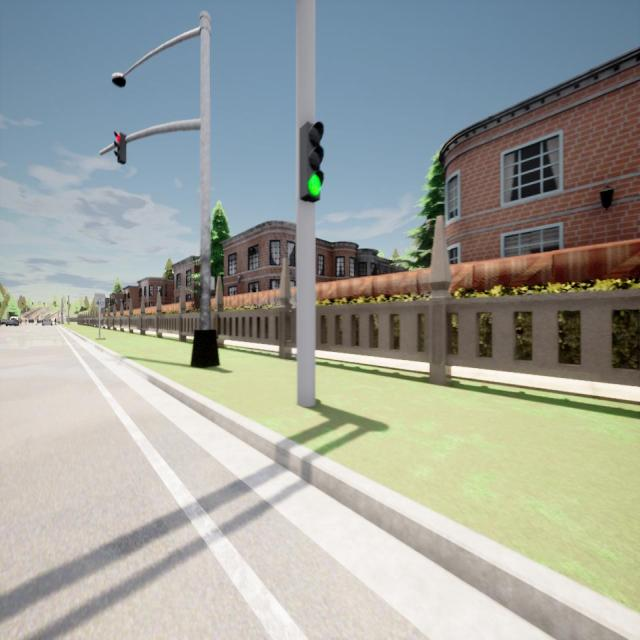Pedestrian: (24, 318, 28, 325), (54, 317, 56, 325)
Traffic_Signs: (94, 293, 106, 308)
Vehicle: (6, 319, 18, 327), (10, 316, 21, 324), (43, 318, 53, 326), (36, 318, 42, 326), (0, 320, 6, 326), (29, 318, 34, 324)
traffic_light: (299, 121, 325, 203), (114, 130, 126, 165), (32, 302, 34, 305), (43, 302, 45, 305), (67, 301, 68, 305), (61, 312, 62, 315)
